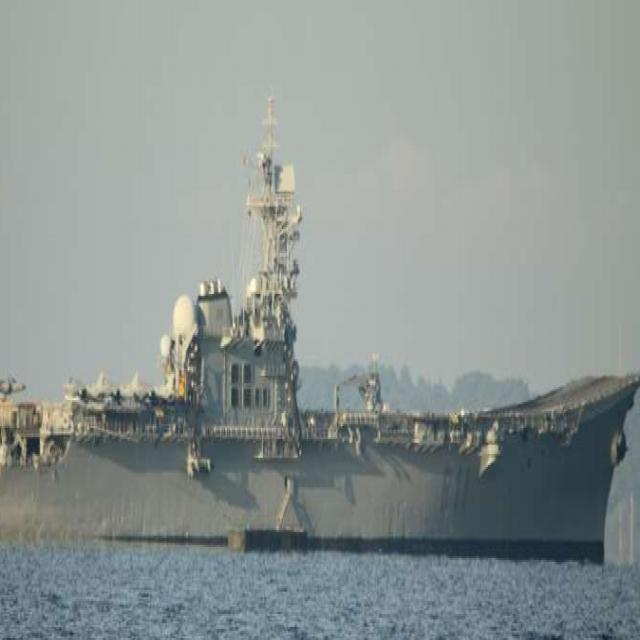Portanaves: (1, 133, 640, 563)
